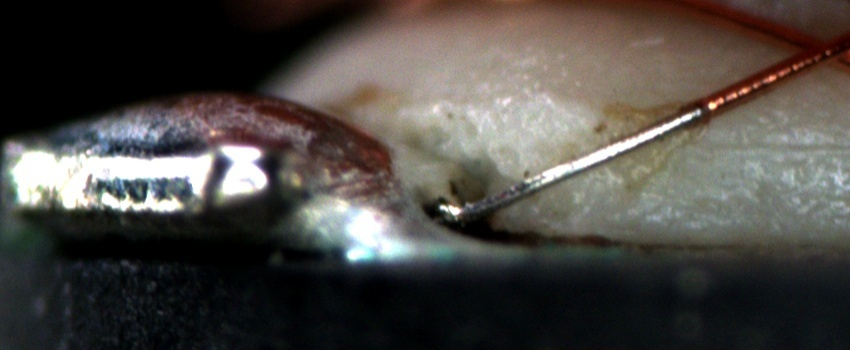CL: (776, 22, 847, 74)
DL: (706, 114, 850, 174)
TS: (436, 108, 706, 221)
